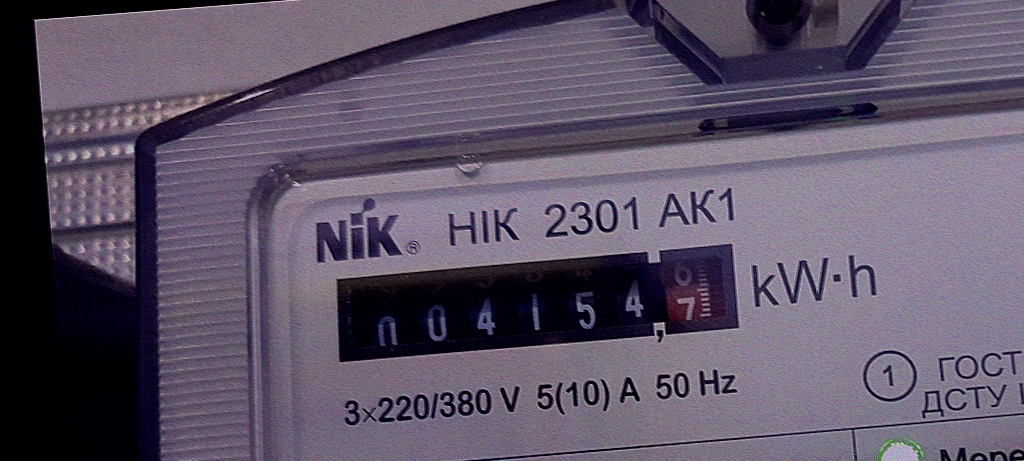0: (423, 300, 449, 343), (374, 310, 399, 346)
1: (527, 290, 543, 332)
4: (472, 295, 498, 338), (621, 275, 645, 320)
5: (572, 285, 599, 331)
6: (671, 256, 695, 287)
7: (674, 292, 697, 322)
screen: (316, 228, 757, 376)
